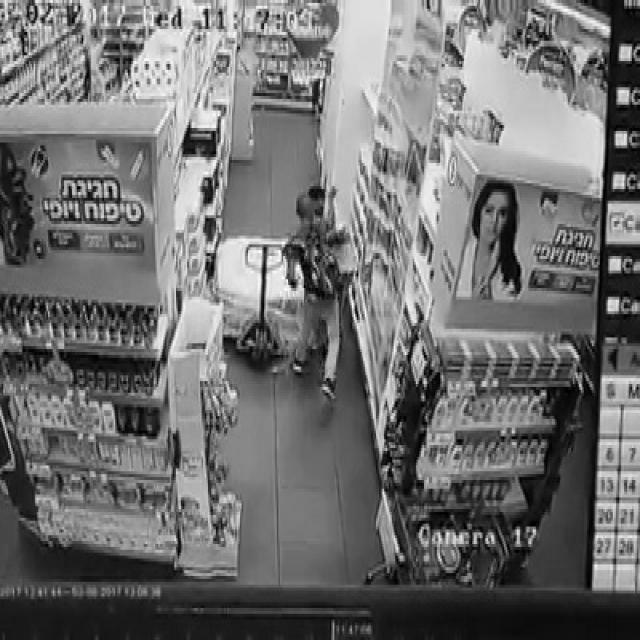weapon: (332, 186, 338, 194)
